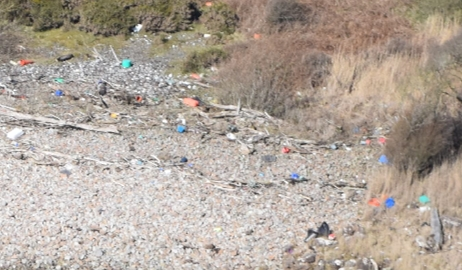scattered_barrel: (362, 128, 440, 215)
together_barrel: (1, 19, 319, 184)
white_in_green: (285, 205, 353, 253)
